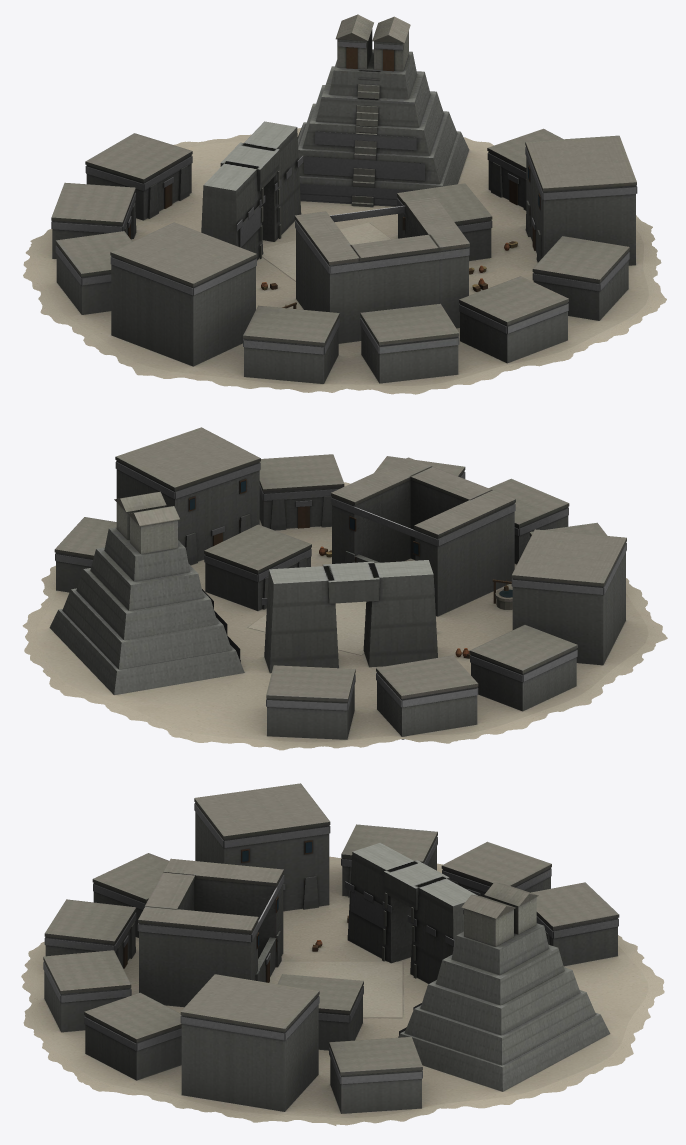
The model's file is kingdoms-town-medium-b-americas.glb.
3 renders of one model, top to bottom at view 1: azimuth 30°, elevation 25°; view 2: azimuth 150°, elevation 25°; view 3: azimuth 270°, elevation 25°, orthographic.
Parts seen in each view (by area): view 1: LOD0; view 2: LOD0; view 3: LOD0.
Part boxes in pixels (box(x1,y1,x2,y2)): LOD0: box(23, 14, 666, 394); LOD0: box(22, 427, 667, 750); LOD0: box(21, 783, 664, 1125).
Size of what is drawn, in the model's own units: 5.93 by 1.53 by 5.95.
3 materials, 3 textured.
